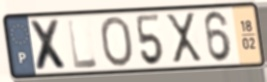5: (133, 12, 166, 68)
6: (202, 9, 235, 65)
L: (65, 16, 100, 71)
O: (98, 14, 136, 69)
X: (27, 18, 71, 73), (164, 11, 205, 67)
